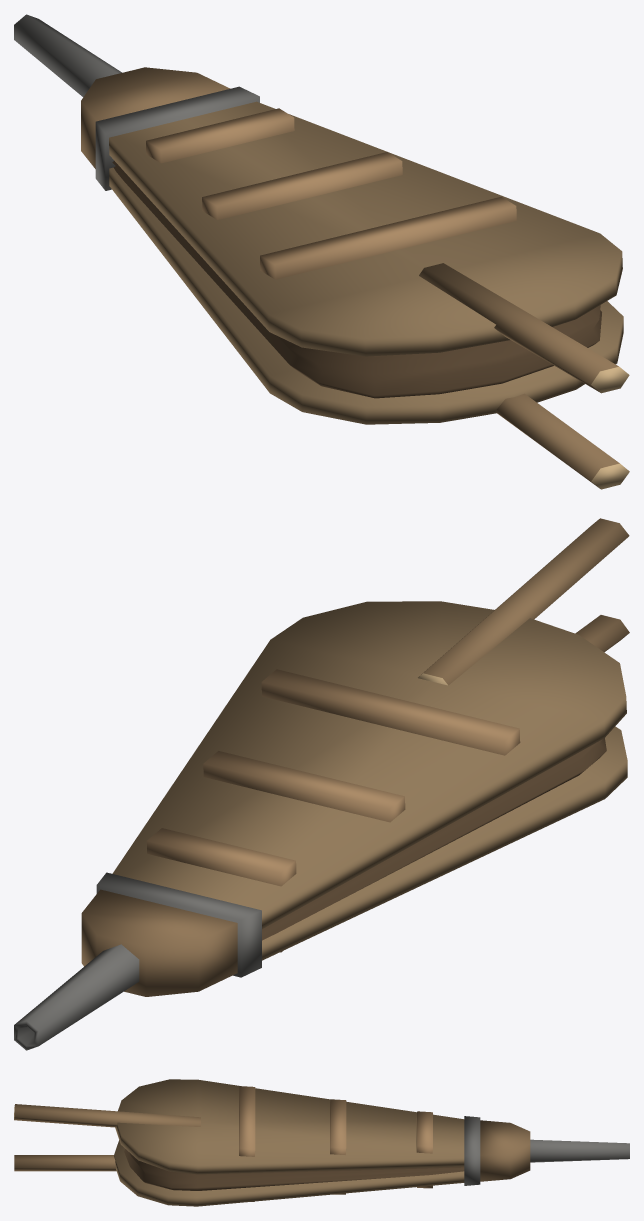
The model's file is rpgpp_ag_bellows_01a.fbx.
The picture shows the model from 3 angles, top to bottom: view 1: azimuth 30°, elevation 25°; view 2: azimuth 150°, elevation 25°; view 3: azimuth 270°, elevation 25°; orthographic projection. The views are drawn at different scales.
Parts seen in each view (by area): view 1: rpgpp_ag_bellows_01a; view 2: rpgpp_ag_bellows_01a; view 3: rpgpp_ag_bellows_01a.
Boxes of the visible parts, x1,y1,x2,y2 form: rpgpp_ag_bellows_01a: [14, 14, 629, 489]; rpgpp_ag_bellows_01a: [14, 518, 629, 1050]; rpgpp_ag_bellows_01a: [14, 1079, 629, 1206].
Size of the model in its own units: 0.4229 by 0.1501 by 1.29.
